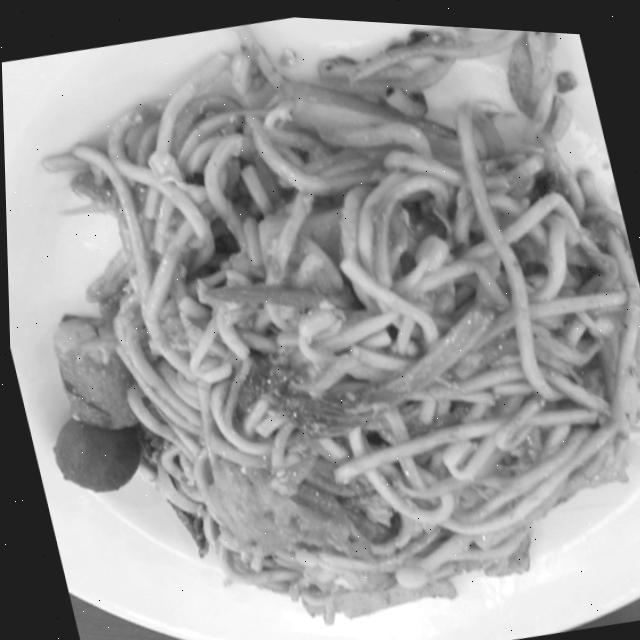面条主食: (63, 41, 640, 621)
